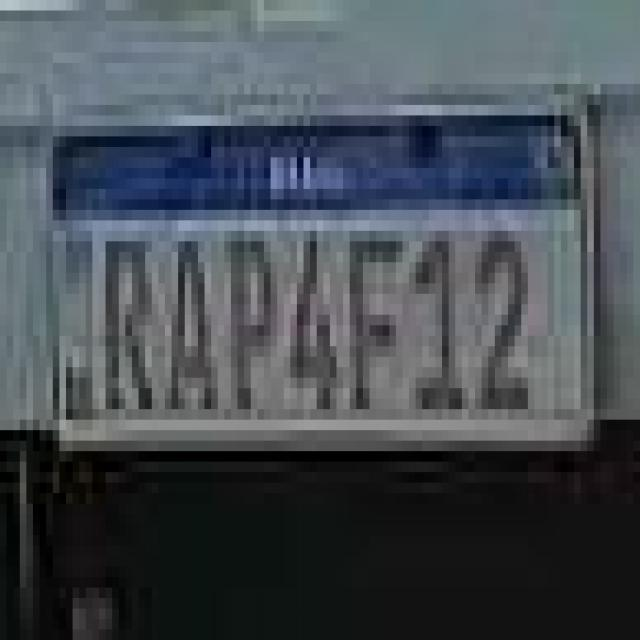1: (408, 225, 466, 416)
4: (284, 221, 336, 416)
A: (167, 228, 221, 417)
F: (341, 222, 407, 413)
P: (220, 224, 282, 418)
R: (93, 227, 159, 418)
